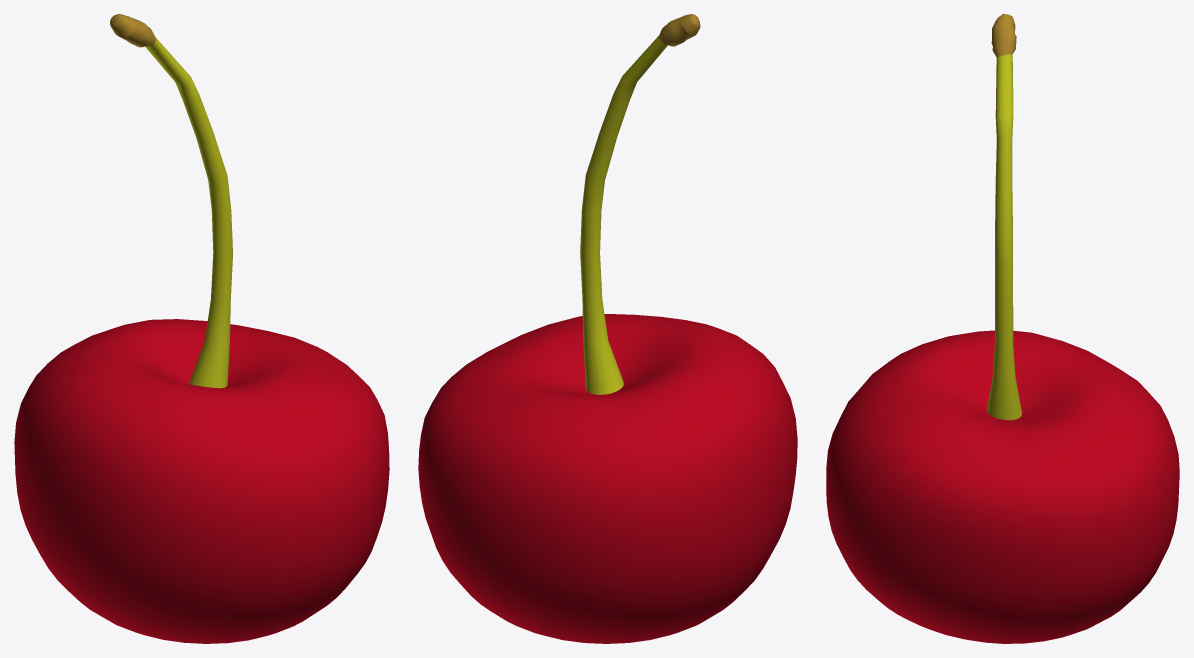
The picture shows the model from 3 angles, left to right: view 1: azimuth 30°, elevation 25°; view 2: azimuth 150°, elevation 25°; view 3: azimuth 270°, elevation 25°; orthographic projection. The views are drawn at different scales.
Parts seen in each view (by area): view 1: Geode; view 2: Geode; view 3: Geode.
Part boxes in pixels (box(x1,y1,x2,y2)): Geode: box(14, 14, 389, 643); Geode: box(418, 14, 797, 643); Geode: box(826, 14, 1179, 643).
Bounding box in the file's own units: 1.85 × 3.45 × 1.94.
